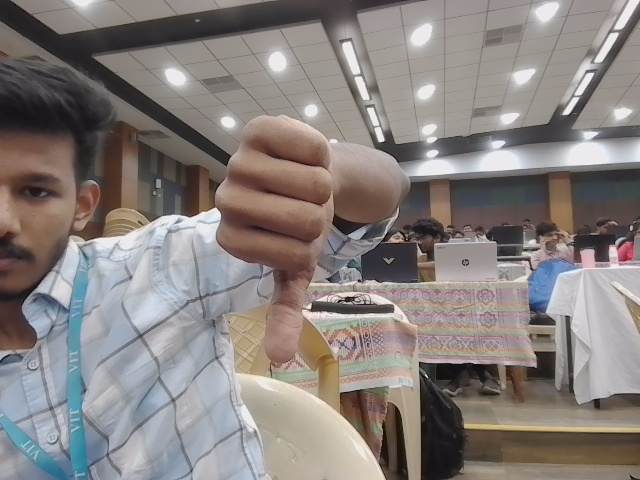no: (214, 110, 335, 370)
